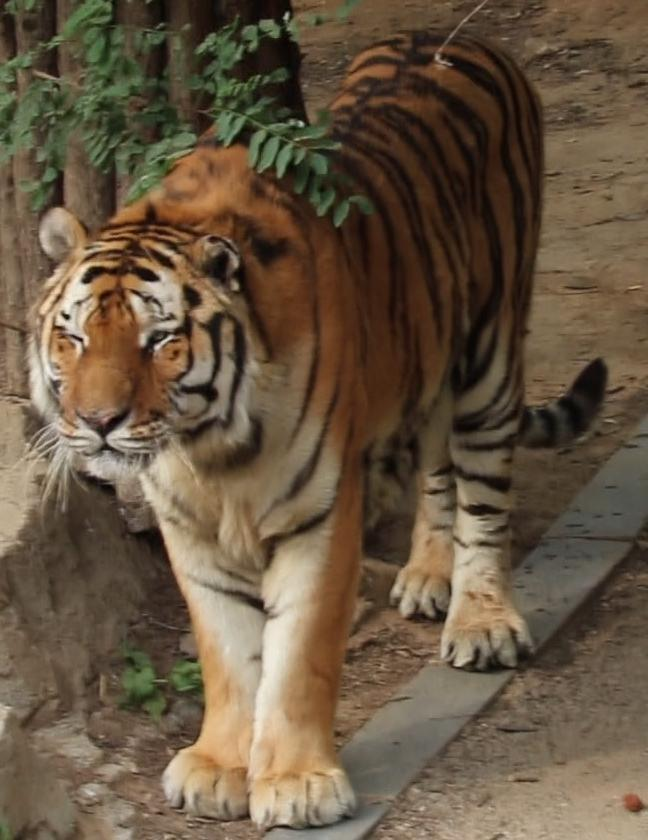tiger: (28, 33, 606, 828)
